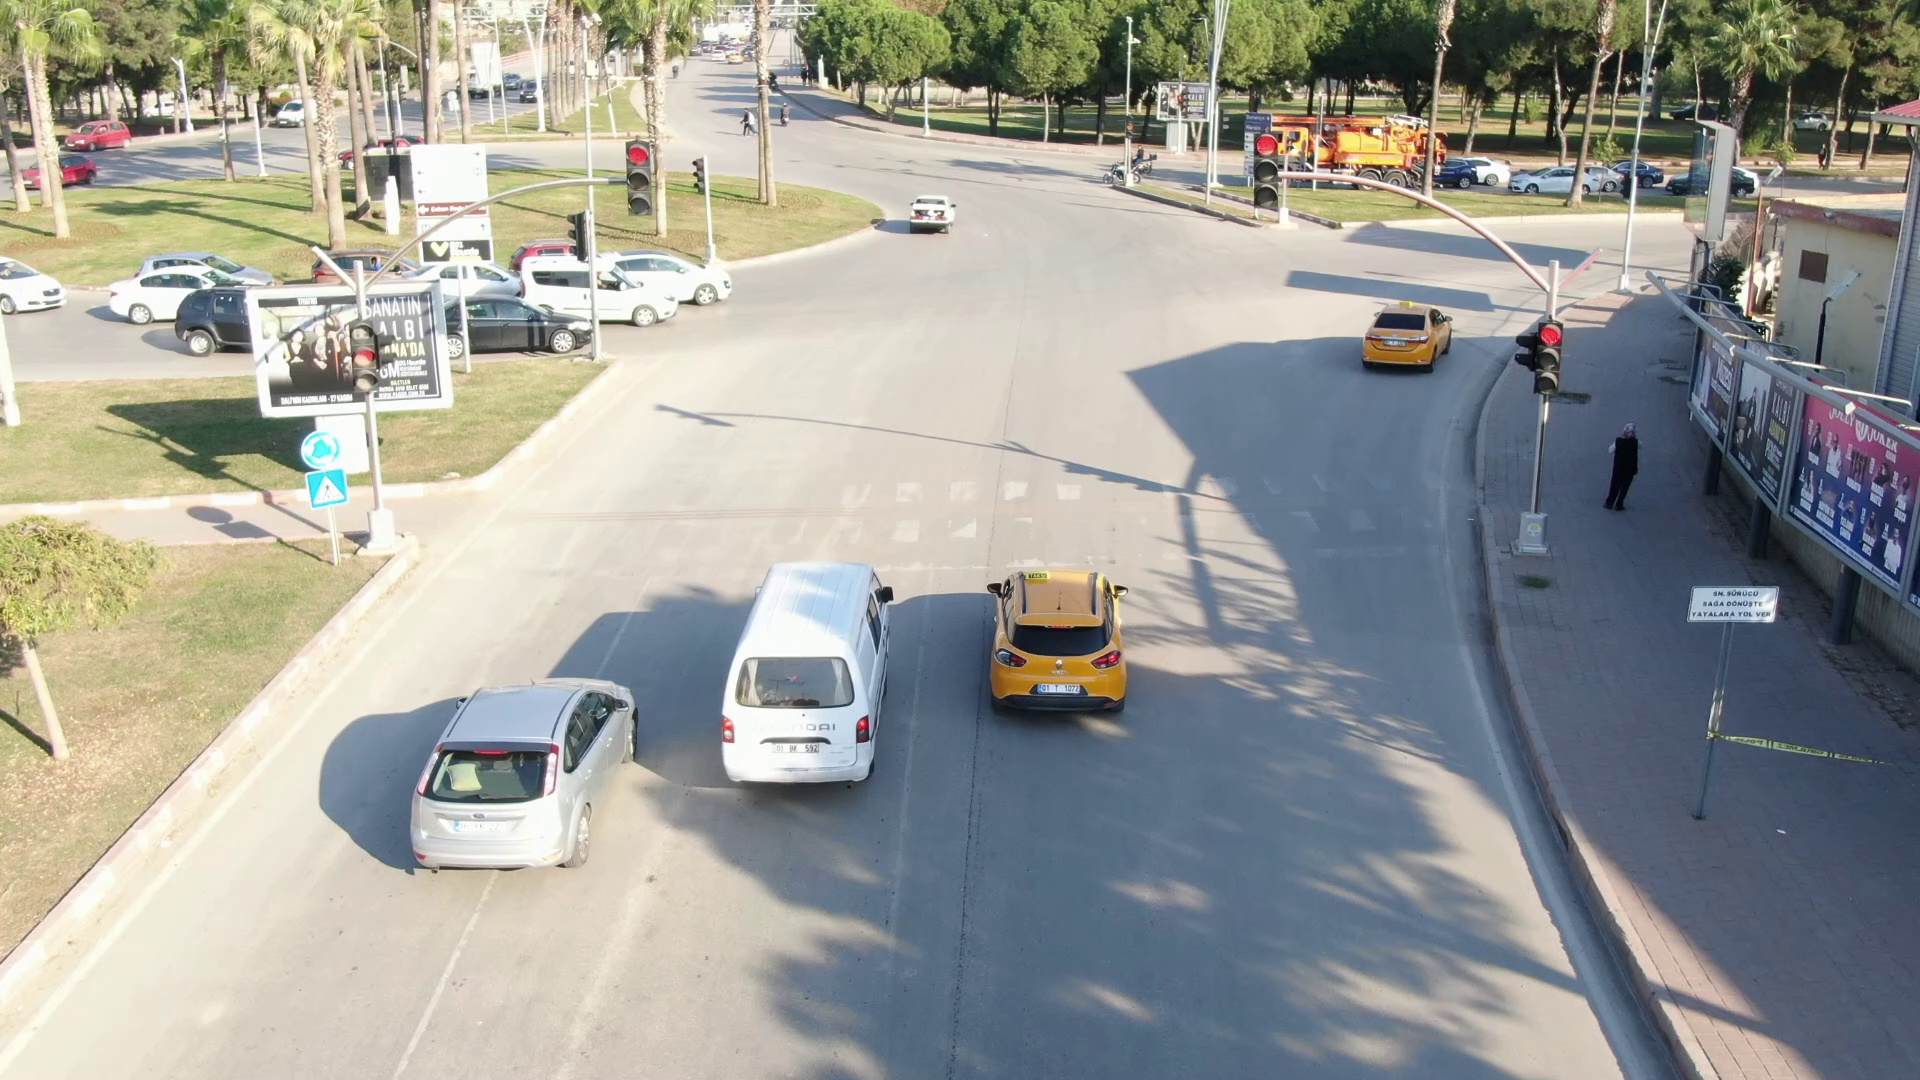car: (402, 680, 653, 868), (725, 559, 900, 804), (980, 566, 1143, 714), (521, 257, 670, 333), (1359, 298, 1459, 382), (108, 263, 263, 315), (608, 249, 733, 314), (453, 308, 596, 357), (406, 253, 531, 302), (176, 296, 243, 349), (910, 194, 953, 229)
person: (1606, 421, 1653, 521)
